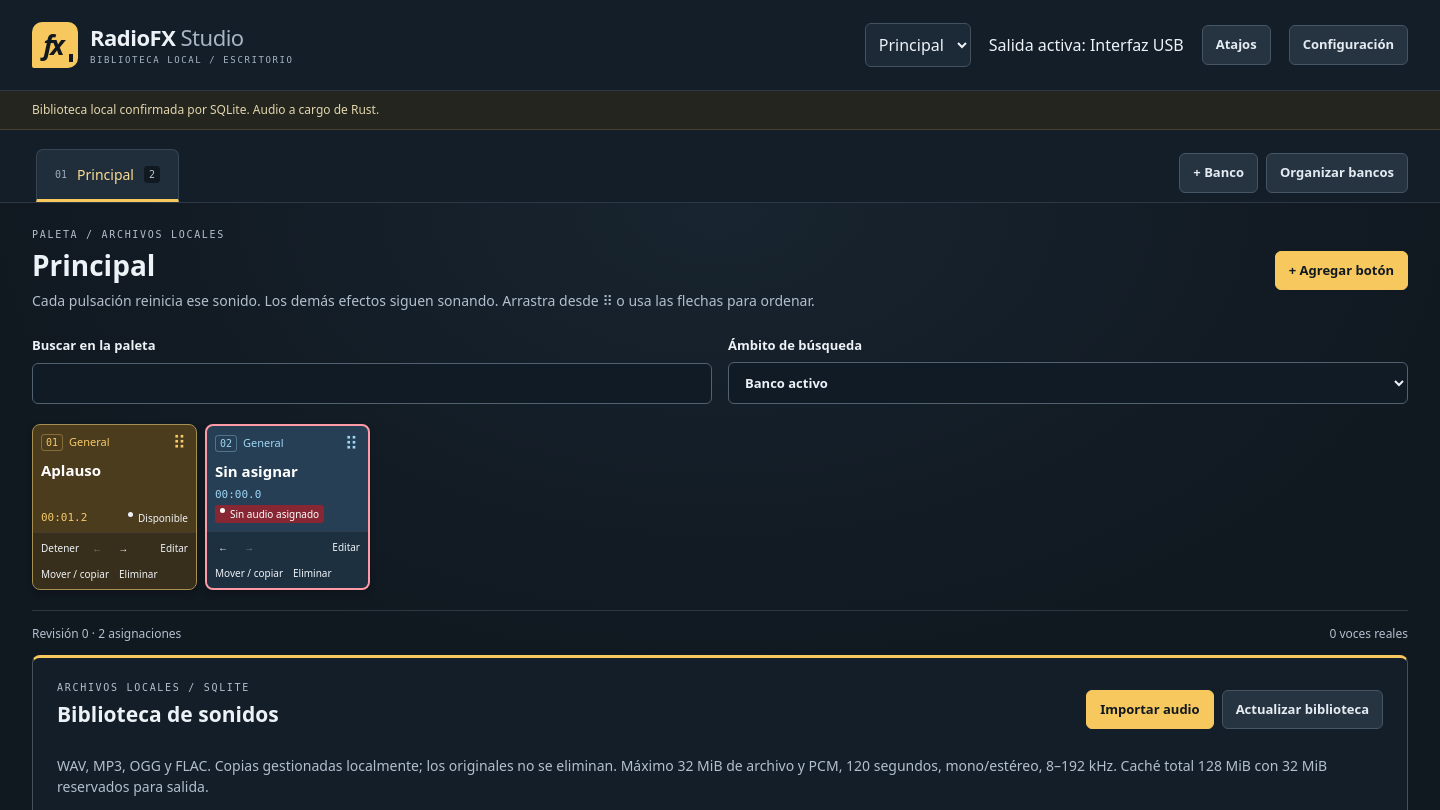
Scenario: professional persistent UI › rejects moving into the source bank without losing the assignment or shortcuts
expect the button with aria-label "Disparar Aplauso" is enabled: met, box [33,453,196,532]
Step 1. Click the button with aria-label "Mover o copiar Aplauso" → (75, 574), box [37,562,113,586]
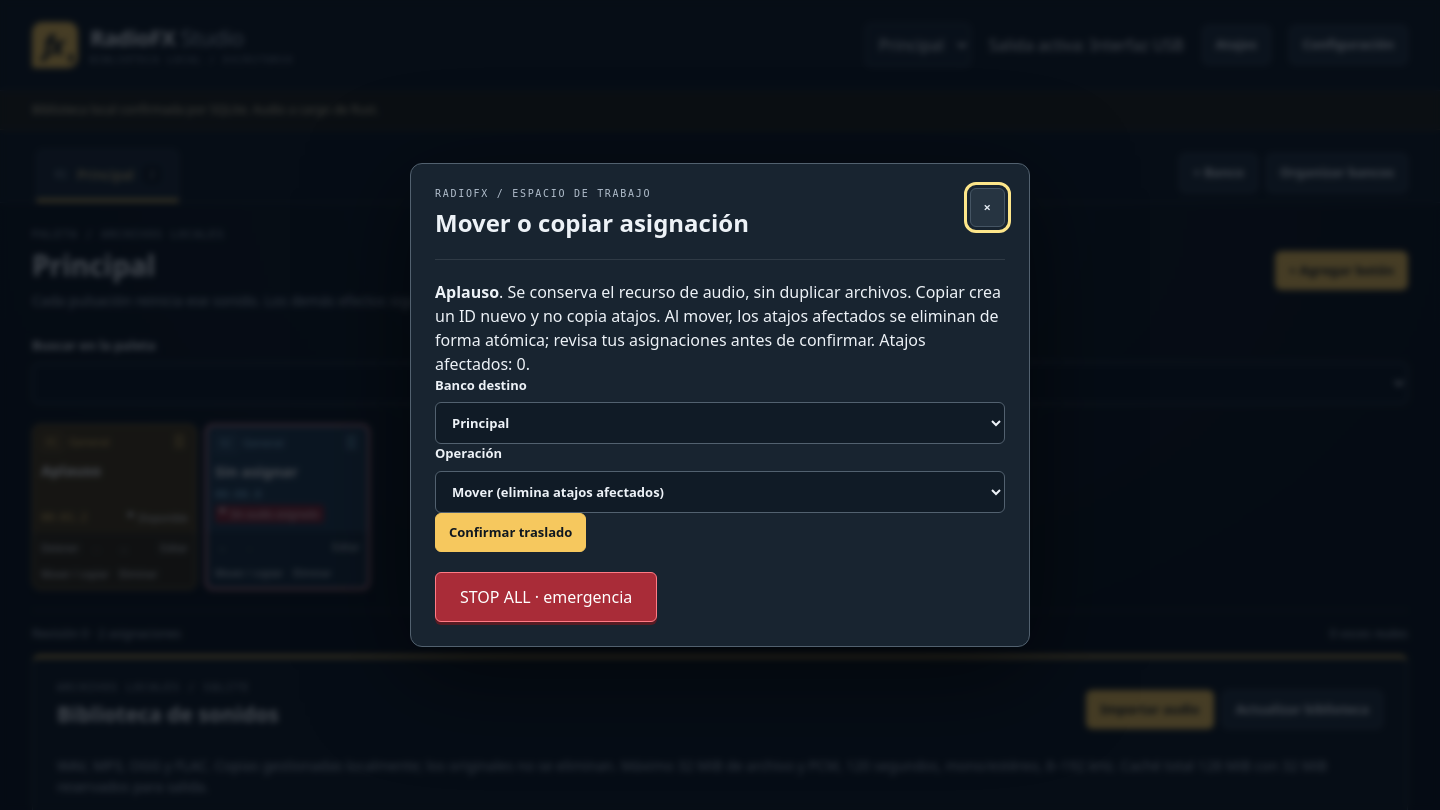
Step 2. Click the button "Confirmar traslado" → (511, 533), box [435,513,586,552]
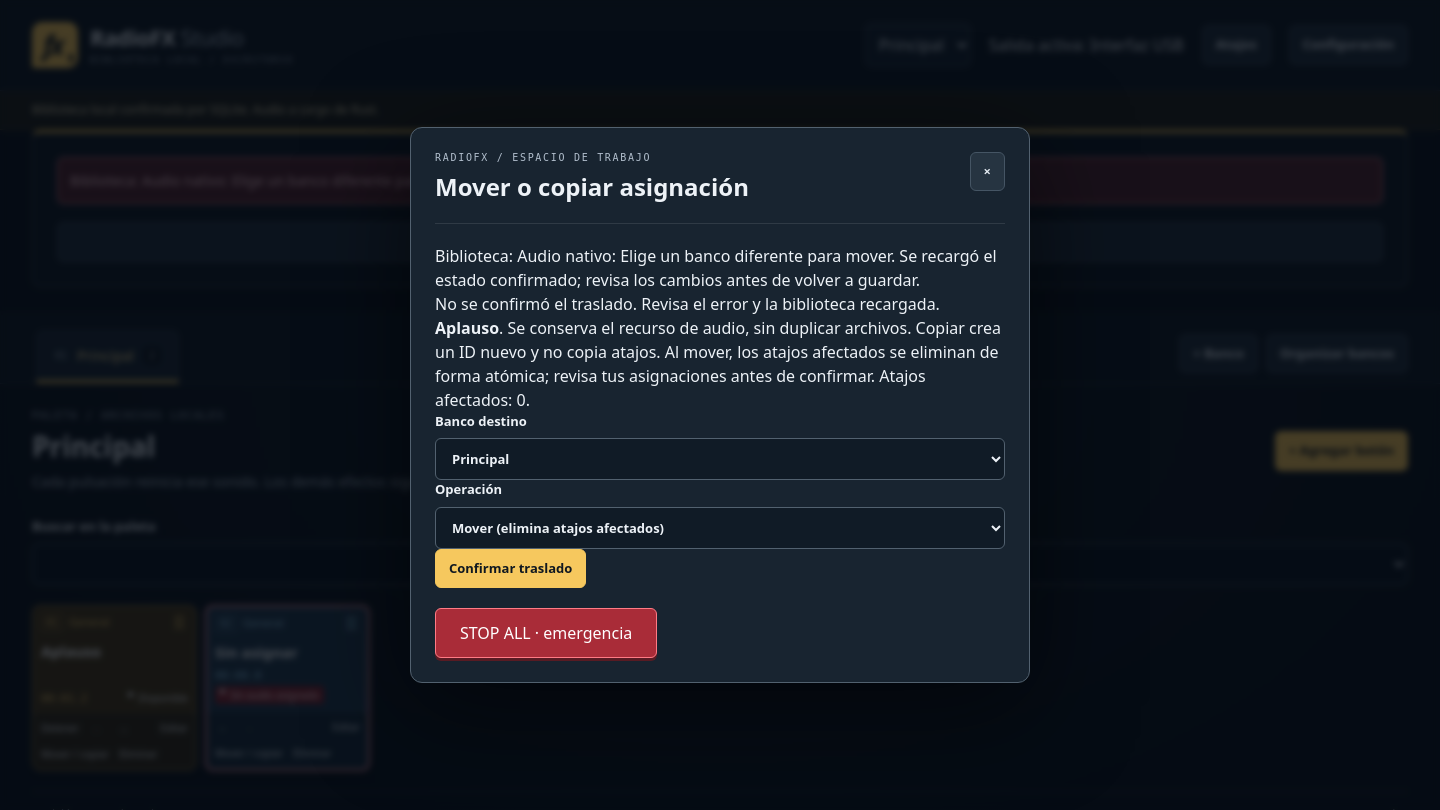
expect the 1st text "Elige un banco diferente" is shown: met, box [70,171,989,190]
